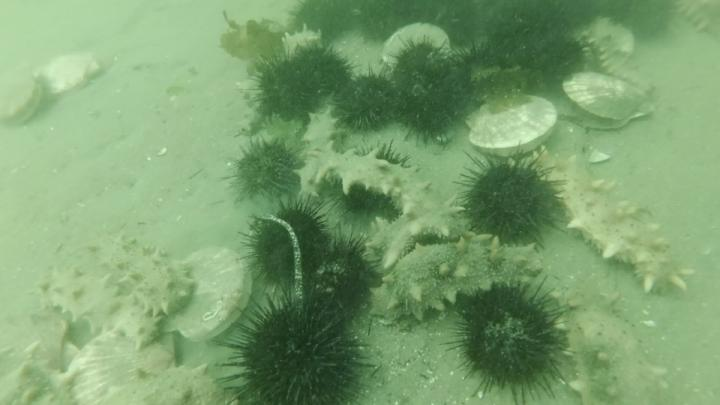echinus: (213, 292, 377, 405), (444, 281, 574, 405), (452, 145, 572, 254), (238, 197, 335, 293), (289, 224, 386, 318), (330, 139, 414, 225), (397, 63, 474, 150), (223, 136, 306, 210), (332, 70, 403, 136), (449, 41, 518, 107), (283, 45, 356, 101), (254, 55, 315, 121), (390, 34, 451, 86), (285, 1, 355, 44), (356, 1, 416, 46), (534, 34, 591, 80), (610, 1, 678, 39)
holothurian: (530, 147, 696, 301), (366, 233, 550, 334), (548, 281, 674, 405), (36, 263, 166, 352), (88, 227, 199, 322), (311, 142, 450, 208), (365, 190, 476, 271), (92, 360, 239, 405), (291, 105, 344, 207), (2, 340, 79, 405), (584, 30, 657, 95), (670, 1, 719, 46), (236, 73, 268, 137), (280, 23, 328, 60)
scallop: (158, 245, 254, 347), (69, 329, 179, 405), (462, 89, 561, 159), (561, 69, 661, 135), (380, 20, 453, 75), (38, 48, 106, 101), (1, 65, 47, 131)
